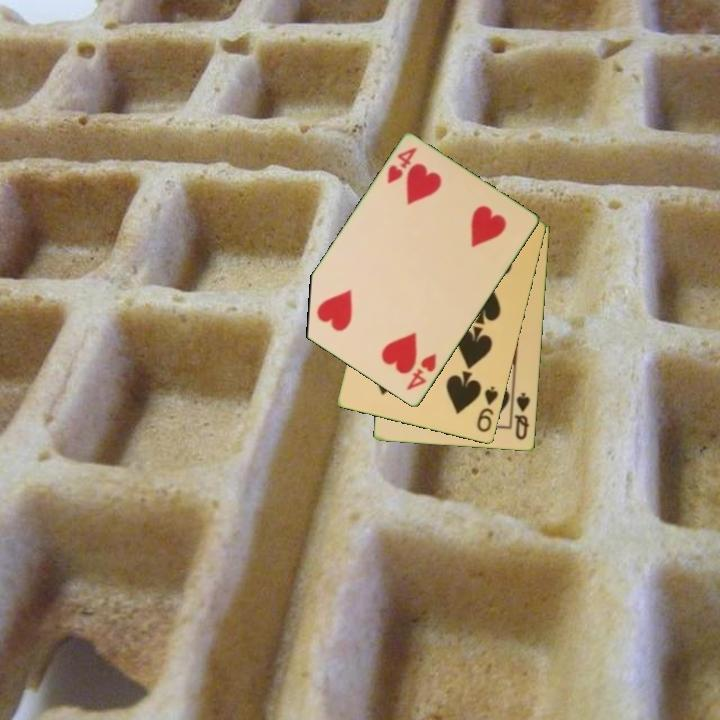4h: (403, 350, 440, 394), (384, 144, 421, 187)
9s: (473, 383, 501, 435)
Qs: (511, 389, 533, 443)
